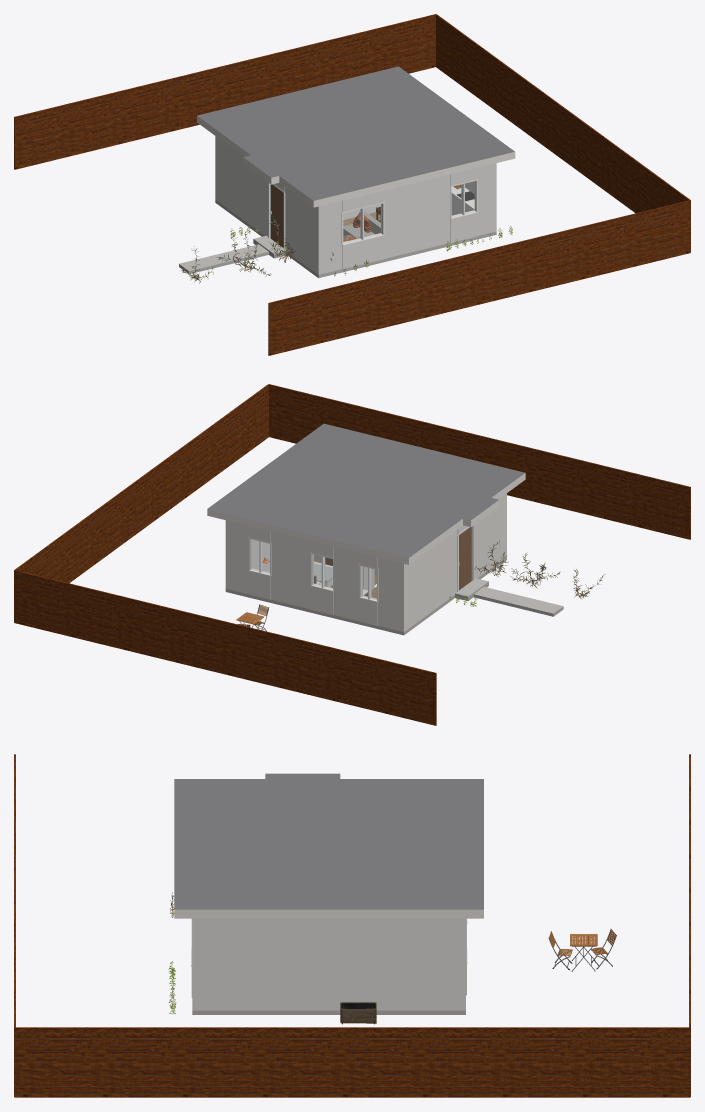
The model's file is house.glb.
The picture shows the model from 3 angles, top to bottom: view 1: azimuth 30°, elevation 25°; view 2: azimuth 150°, elevation 25°; view 3: azimuth 270°, elevation 25°; orthographic projection. The views are drawn at different scales.
Visible parts, largest first — view 1: ARCH, CEIL, GLASS_panes; view 2: ARCH, CEIL, GLASS_panes; view 3: ARCH, CEIL, planter_box_01.
Part boxes in pixels (left/top/right/bottom): ARCH: left=14, top=14, right=690, bottom=355; CEIL: left=197, top=66, right=515, bottom=207; GLASS_panes: left=343, top=181, right=475, bottom=242; ARCH: left=14, top=384, right=690, bottom=725; CEIL: left=207, top=423, right=525, bottom=564; GLASS_panes: left=251, top=540, right=376, bottom=599; ARCH: left=14, top=754, right=690, bottom=1097; CEIL: left=174, top=773, right=483, bottom=918; planter_box_01: left=340, top=1002, right=376, bottom=1024.
Size of what is drawn, in the model's own units: 16.2 by 3.12 by 16.93.
Materials: 54 (30 with a texture image).
